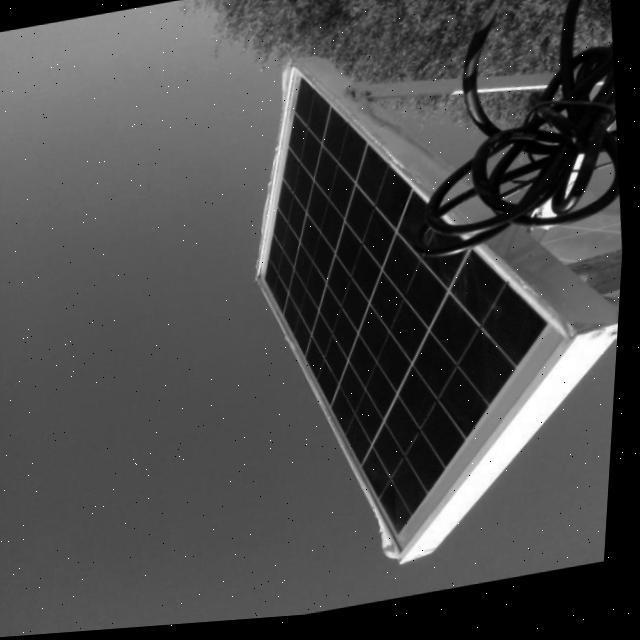Normal Solar Panel: (222, 21, 610, 590)
